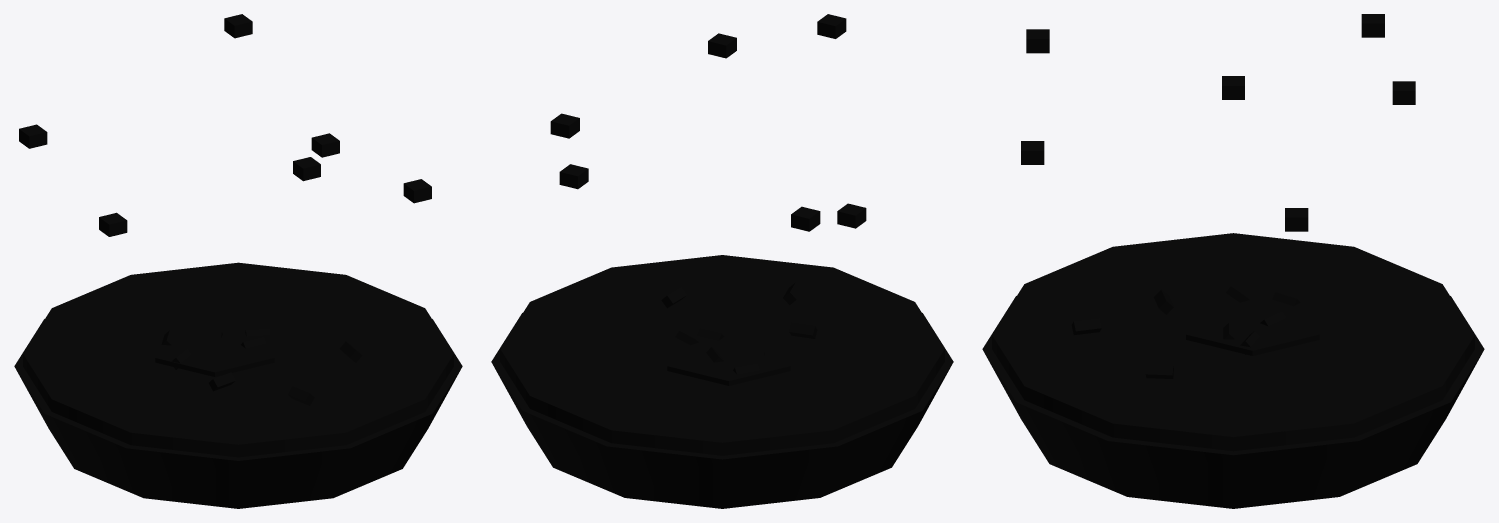
The model's file is SM_pie_rotten.fbx.
The picture shows the model from 3 angles, left to right: view 1: azimuth 30°, elevation 25°; view 2: azimuth 150°, elevation 25°; view 3: azimuth 270°, elevation 25°; orthographic projection. The views are drawn at different scales.
Parts seen in each view (by area): view 1: pie_rotten, pie_rotten_flies; view 2: pie_rotten, pie_rotten_flies; view 3: pie_rotten, pie_rotten_flies.
Boxes of the visible parts, <box> form: pie_rotten: <box>14,262,462,508</box>; pie_rotten_flies: <box>19,14,431,236</box>; pie_rotten: <box>491,255,953,508</box>; pie_rotten_flies: <box>550,14,866,231</box>; pie_rotten: <box>982,233,1484,508</box>; pie_rotten_flies: <box>1021,14,1415,231</box>.
Size of the model in its own units: 0.26 by 0.214 by 0.26.
